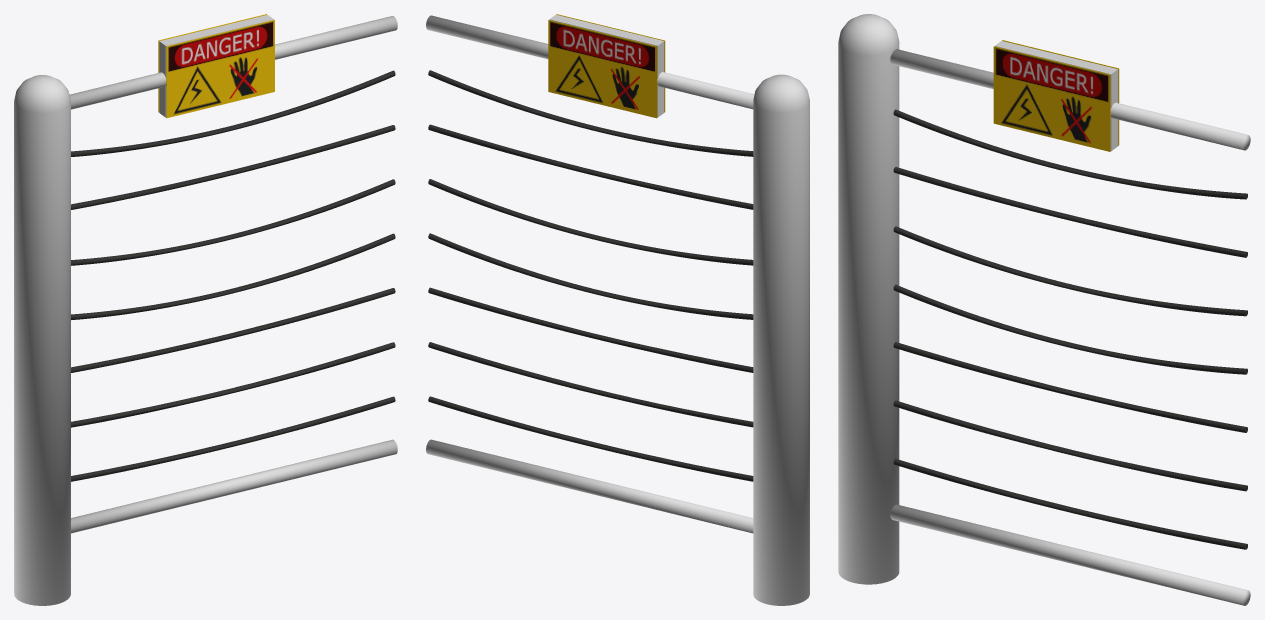
Rendered from FenceWithWarning.fbx.
The picture shows the model from 3 angles, left to right: view 1: azimuth 30°, elevation 25°; view 2: azimuth 150°, elevation 25°; view 3: azimuth 330°, elevation 25°; orthographic projection. The views are drawn at different scales.
Parts seen in each view (by area): view 1: Post, Sign1, Down, Up, Wires.005, Wires.002, Wires.006, Wires.007, Wires.003, Wires.004, Wires.001, MiddleWood; view 2: Post, Sign2, Down, Up, Wires.002, Wires.005, Wires.007, Wires.001, Wires.006, Wires.003, Wires.004, MiddleWood; view 3: Post, Sign1, Down, Up, Wires.005, Wires.002, Wires.006, Wires.007, Wires.004, Wires.001, Wires.003, MiddleWood.
Boxes of the visible parts, left/top/right/bottom form: Post: left=14, top=75, right=70, bottom=605; Sign1: left=166, top=20, right=274, bottom=118; Down: left=71, top=439, right=397, bottom=533; Up: left=69, top=16, right=397, bottom=109; Wires.005: left=71, top=288, right=395, bottom=372; Wires.002: left=71, top=125, right=395, bottom=209; Wires.006: left=71, top=342, right=395, bottom=427; Wires.007: left=71, top=396, right=395, bottom=481; Wires.003: left=71, top=179, right=395, bottom=265; Wires.004: left=71, top=233, right=395, bottom=319; Wires.001: left=71, top=70, right=395, bottom=156; MiddleWood: left=159, top=14, right=274, bottom=117; Post: left=753, top=74, right=809, bottom=605; Sign2: left=548, top=20, right=657, bottom=118; Down: left=426, top=439, right=753, bottom=533; Up: left=426, top=15, right=754, bottom=109; Wires.002: left=428, top=124, right=753, bottom=209; Wires.005: left=428, top=287, right=753, bottom=372; Wires.007: left=428, top=396, right=753, bottom=481; Wires.001: left=428, top=70, right=753, bottom=156; Wires.006: left=428, top=342, right=753, bottom=427; Wires.003: left=428, top=179, right=753, bottom=265; Wires.004: left=428, top=233, right=753, bottom=319; MiddleWood: left=549, top=14, right=664, bottom=117; Post: left=838, top=14, right=899, bottom=584; Sign1: left=993, top=46, right=1110, bottom=151; Down: left=890, top=504, right=1250, bottom=605; Up: left=890, top=49, right=1250, bottom=150; Wires.005: left=893, top=342, right=1247, bottom=432; Wires.002: left=893, top=167, right=1247, bottom=257; Wires.006: left=893, top=400, right=1247, bottom=491; Wires.007: left=893, top=459, right=1247, bottom=549; Wires.004: left=893, top=284, right=1247, bottom=374; Wires.001: left=893, top=109, right=1247, bottom=199; Wires.003: left=893, top=226, right=1247, bottom=316; MiddleWood: left=995, top=41, right=1118, bottom=151.
Bounding box in the file's own units: 115 × 152 × 15.
